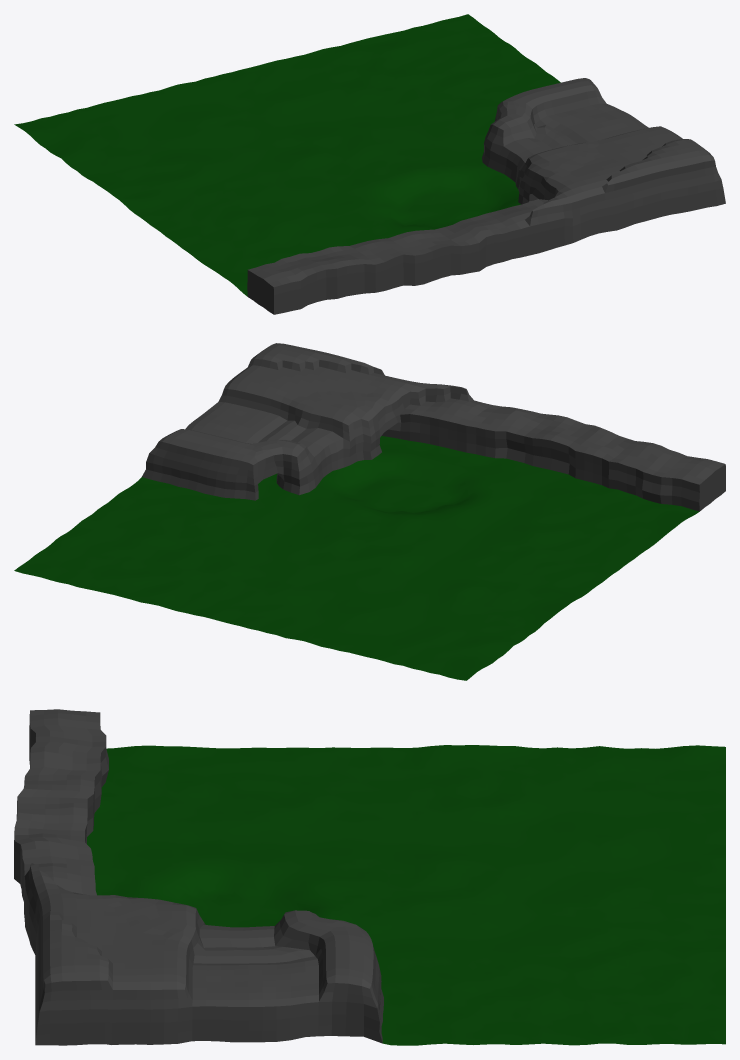
File: Jungle Terrain.fbx
3 views of the same model, one above another, from view 1: azimuth 30°, elevation 25°; view 2: azimuth 150°, elevation 25°; view 3: azimuth 270°, elevation 25° (orthographic). The views are drawn at different scales.
Parts seen in each view (by area): view 1: Terrain; view 2: Terrain; view 3: Terrain.
Boxes of the visible parts, <box> form: Terrain: <box>14,14,725,314</box>; Terrain: <box>14,343,725,680</box>; Terrain: <box>14,709,725,1045</box>.
Size of the model in its own units: 11813 by 1509 by 11975.
